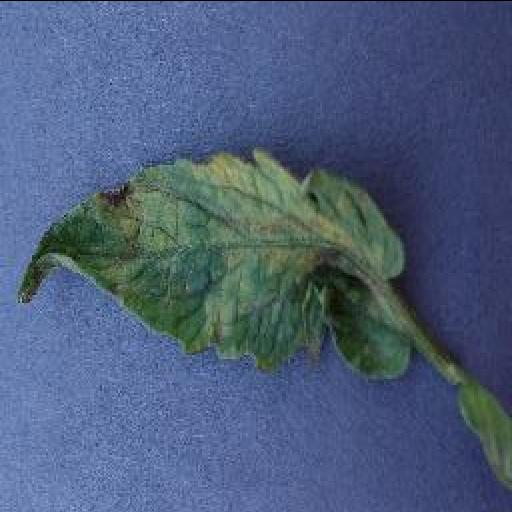disease_tomato: (16, 146, 406, 382)
